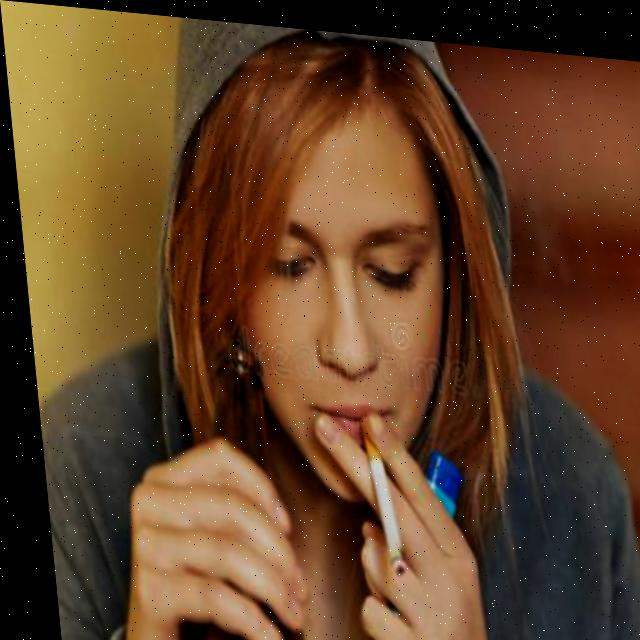cigarette: (353, 410, 398, 570)
